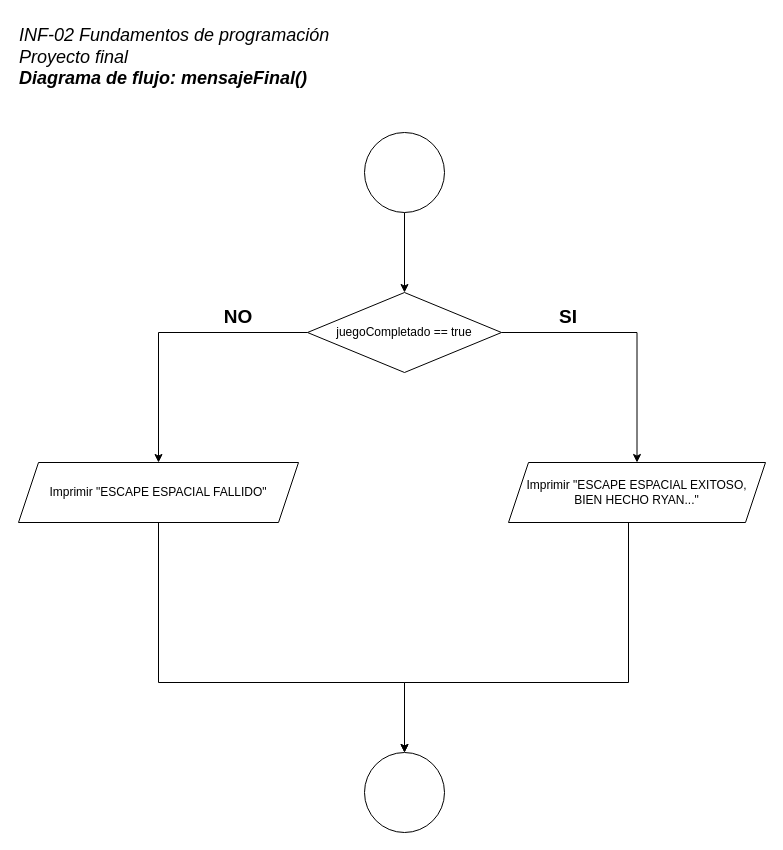
This 783x850 diagram has some shape labels left out. The centre of each missing label's shape, as x and y in pixels:
"Fin" goes at point (404, 792).
"Inicio" goes at point (404, 172).
